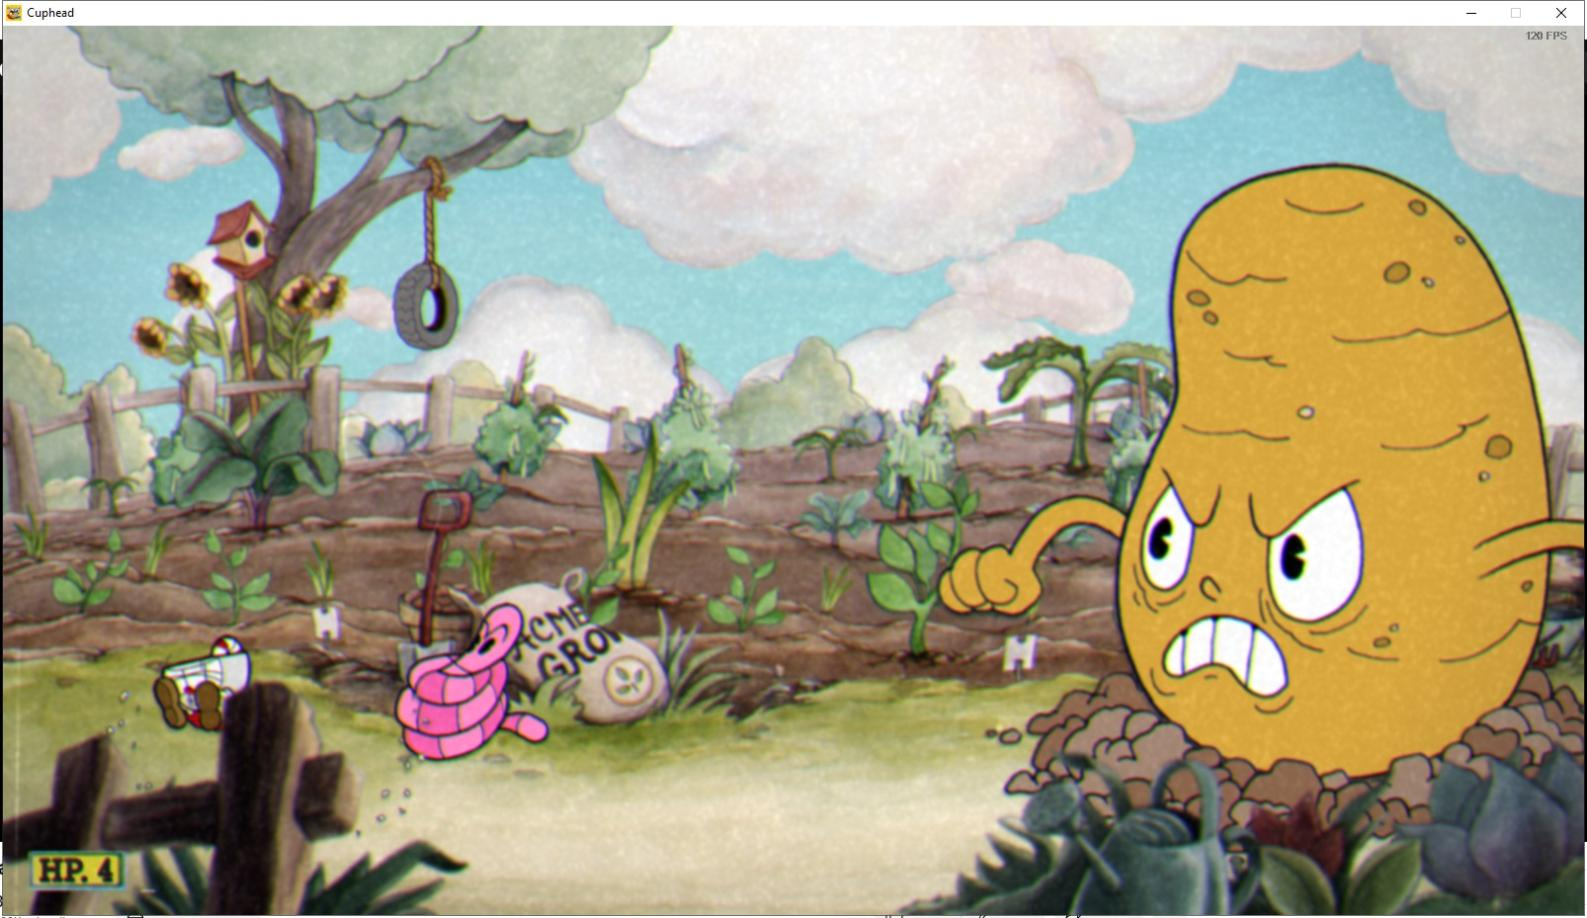hp4: (91, 853, 122, 889)
player: (143, 625, 280, 741)
potato_boss: (1102, 153, 1562, 800)
worm: (383, 598, 552, 768)
